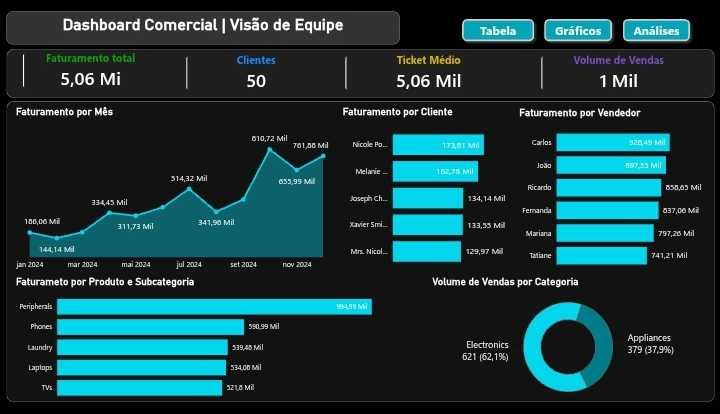

The dashboard page shown, as its layout file describes it:
{"tool":"powerbi","page":{"name":"Página 1","canvas":[1280,720],"ordinal":0},"visuals":[{"type":"textbox","box":[31,20.7,424.9,67.9],"z":0},{"type":"lineChart","title":"Faturamento por Mês","fields":{"Y":["fato-venda.Faturamento total"],"Category":["fato-venda.Sale Date.Variação.Date Hierarchy.Year","fato-venda.Sale Date.Variação.Date Hierarchy.Month"]},"box":[30.5,187,572.1,299.2],"z":1000},{"type":"barChart","title":"Faturamento por Cliente","fields":{"Y":["fato-venda.Faturamento total"],"Category":["dim-cliente.cliente"]},"box":[616.5,187,308.9,300.6],"z":2000},{"type":"barChart","title":"Faturamento por Vendedor","fields":{"Y":["fato-venda.Faturamento total"],"Category":["dim-vendedor.vendedor"]},"box":[938.6,186.6,314.8,300.2],"z":3000},{"type":"donutChart","title":"Volume de Vendas por Categoria","fields":{"Category":["dim-produto.categoria"],"Y":["fato-venda.Volume de Vendas"]},"box":[760.8,497,492.6,223],"z":4000},{"type":"barChart","title":"Faturameto por Produto e  Subcategoria","fields":{"Category":["dim-produto.subcategoria","dim-produto.produto"],"Y":["fato-venda.Faturamento total"]},"box":[30.5,497.3,714.8,223],"z":5000},{"type":"cardVisual","title":"Faturamento Total","fields":{"Data":["fato-venda.Faturamento total"]},"box":[20.6,73.7,287.6,97.3],"z":6000},{"type":"cardVisual","title":"Clientes","fields":{"Data":["fato-venda.Clientes"]},"box":[317.1,78.2,286.1,95.9],"z":7000},{"type":"cardVisual","title":"Ticket Médio","fields":{"Data":["fato-venda.Ticket Médio"]},"box":[603.1,78.2,322.9,95.9],"z":8000},{"type":"cardVisual","title":"Vendas","fields":{"Data":["fato-venda.Volume de Vendas"]},"box":[926.1,78.2,325.9,95.9],"z":9000},{"type":"actionButton","box":[955.6,20.6,138.6,57.5],"z":11000},{"type":"actionButton","box":[809.6,20.6,146,57.5],"z":12000},{"type":"actionButton","box":[1095.7,20.6,137.1,57.5],"z":13000}]}

Visuals, with their boxes in screenshot pixels (x1, y1, x2, y2), scaled from the page's 1280x720 canvas onto the 720x414 screenshot:
textbox: box=[17, 12, 256, 51]
"Faturamento por Mês" lineChart: box=[17, 108, 339, 280]
"Faturamento por Cliente" barChart: box=[347, 108, 521, 280]
"Faturamento por Vendedor" barChart: box=[528, 107, 705, 280]
"Volume de Vendas por Categoria" donutChart: box=[428, 286, 705, 413]
"Faturameto por Produto e  Subcategoria" barChart: box=[17, 286, 419, 413]
"Faturamento Total" cardVisual: box=[12, 42, 173, 98]
"Clientes" cardVisual: box=[178, 45, 339, 100]
"Ticket Médio" cardVisual: box=[339, 45, 521, 100]
"Vendas" cardVisual: box=[521, 45, 704, 100]
actionButton: box=[538, 12, 615, 45]
actionButton: box=[455, 12, 538, 45]
actionButton: box=[616, 12, 693, 45]
